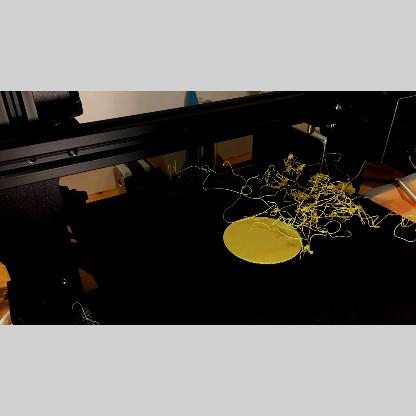fail: (256, 152, 414, 254)
